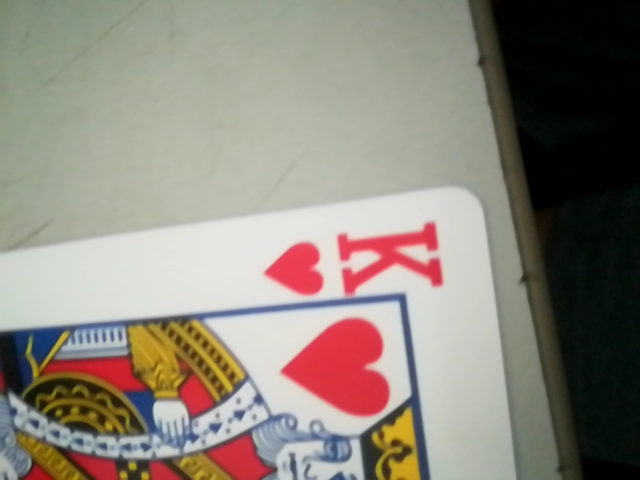hx k: (267, 218, 450, 303)
